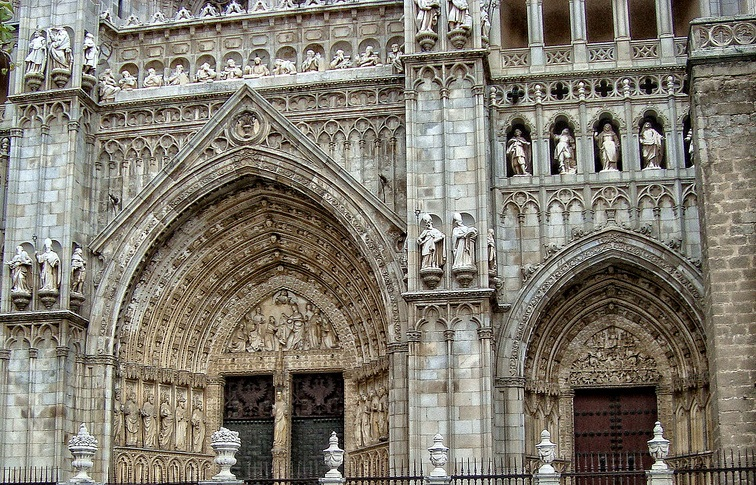arco-apuntado: (86, 142, 409, 344), (516, 245, 708, 379)
